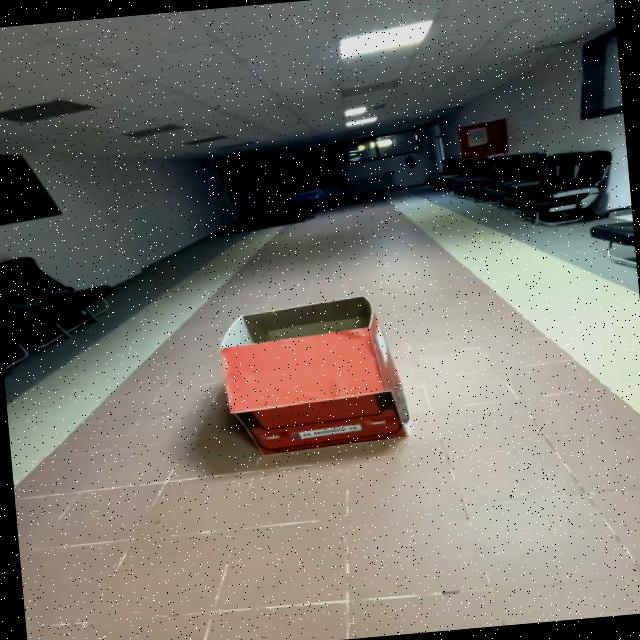red_car: (193, 276, 437, 474)
